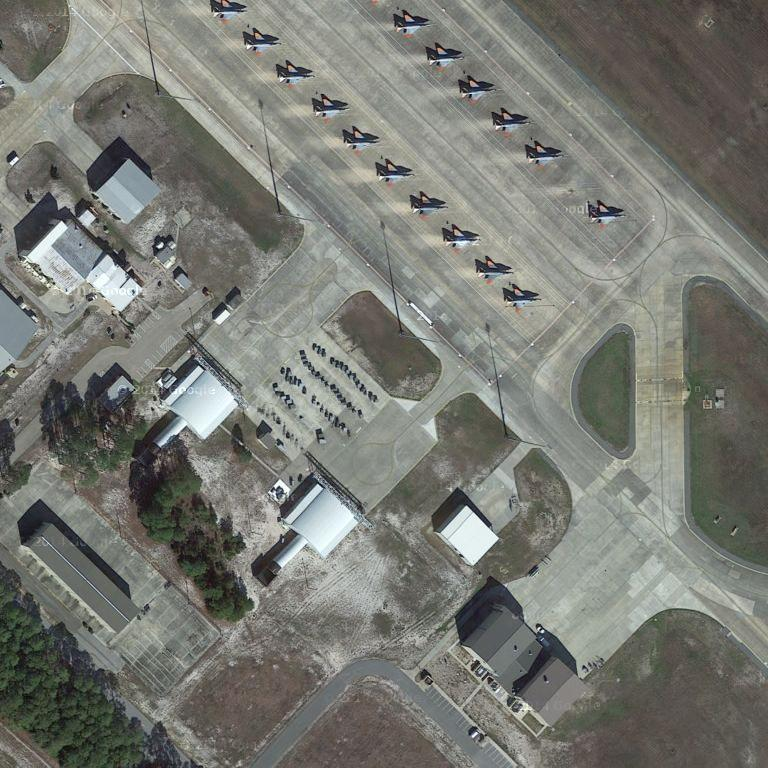plane: (498, 280, 547, 317), (388, 7, 438, 42), (470, 252, 518, 288), (422, 42, 472, 76), (585, 198, 632, 232), (405, 189, 451, 223), (370, 156, 420, 187), (521, 140, 569, 172), (338, 125, 387, 156), (439, 222, 485, 255), (489, 106, 535, 138), (275, 58, 318, 91), (454, 76, 502, 104), (239, 26, 281, 57), (308, 95, 354, 123), (208, 2, 258, 26)
